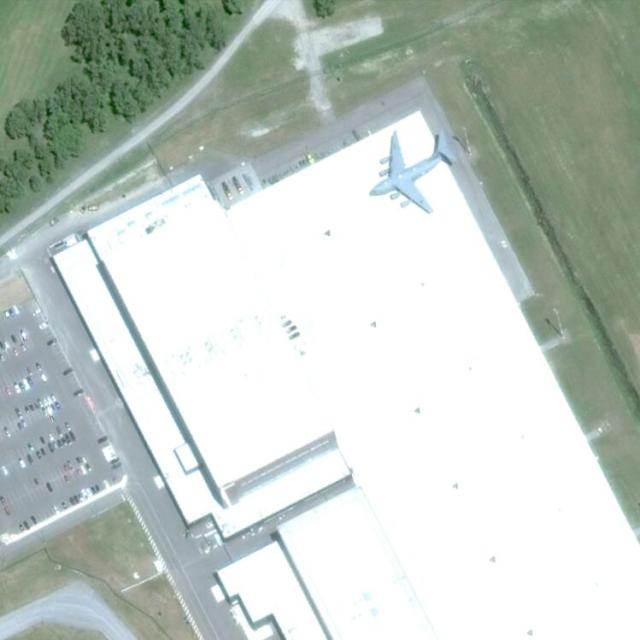fighter jet: (364, 128, 460, 215)
